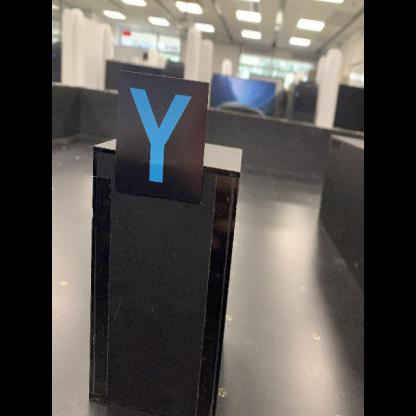y: (114, 65, 212, 211)
